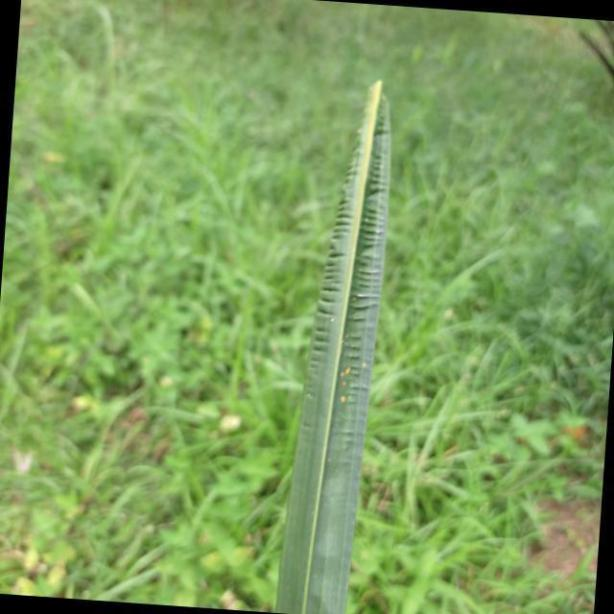Boron: (265, 70, 397, 614)
